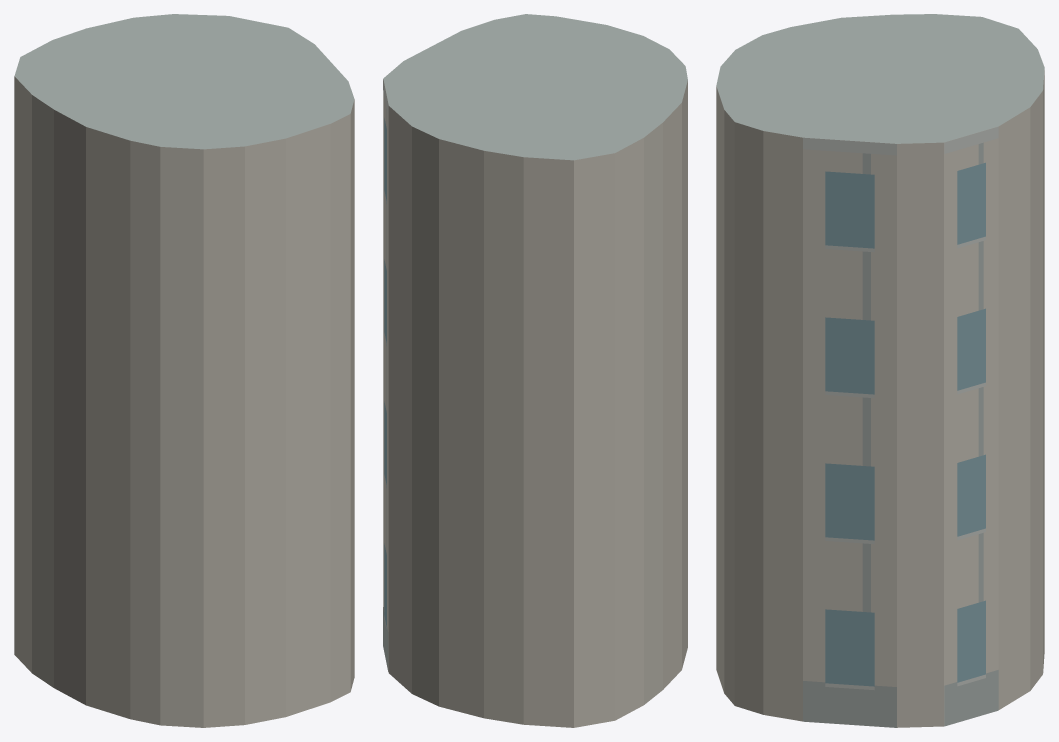
File: survey-upis-32967570.glb
3 renders of one model, left to right at view 1: azimuth 30°, elevation 25°; view 2: azimuth 150°, elevation 25°; view 3: azimuth 270°, elevation 25°, orthographic. The views are drawn at different scales.
Visible parts, largest first — view 1: survey-upis-32967570.tmp; view 2: survey-upis-32967570.tmp; view 3: survey-upis-32967570.tmp.
Part boxes in pixels (bbox=[...]): survey-upis-32967570.tmp: bbox=[14, 14, 354, 727]; survey-upis-32967570.tmp: bbox=[383, 14, 687, 727]; survey-upis-32967570.tmp: bbox=[716, 14, 1044, 727].
Size of the model in its own units: 5.83 by 12.2 by 6.22.
